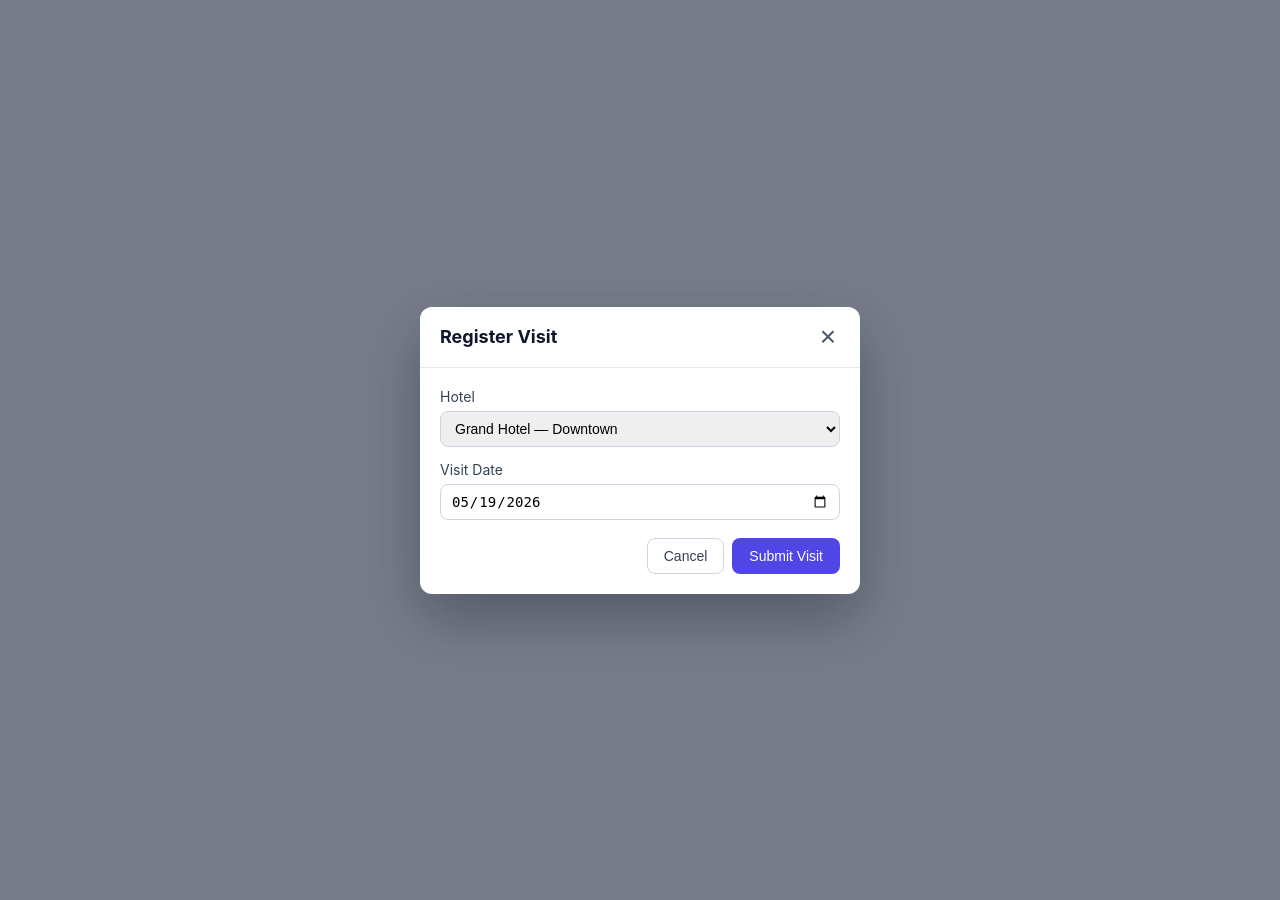
Test: VisitModal › renders field-level errors from ProblemDetails next to the field
Click the button "Submit Visit" at [786, 556], box [732, 538, 840, 574]
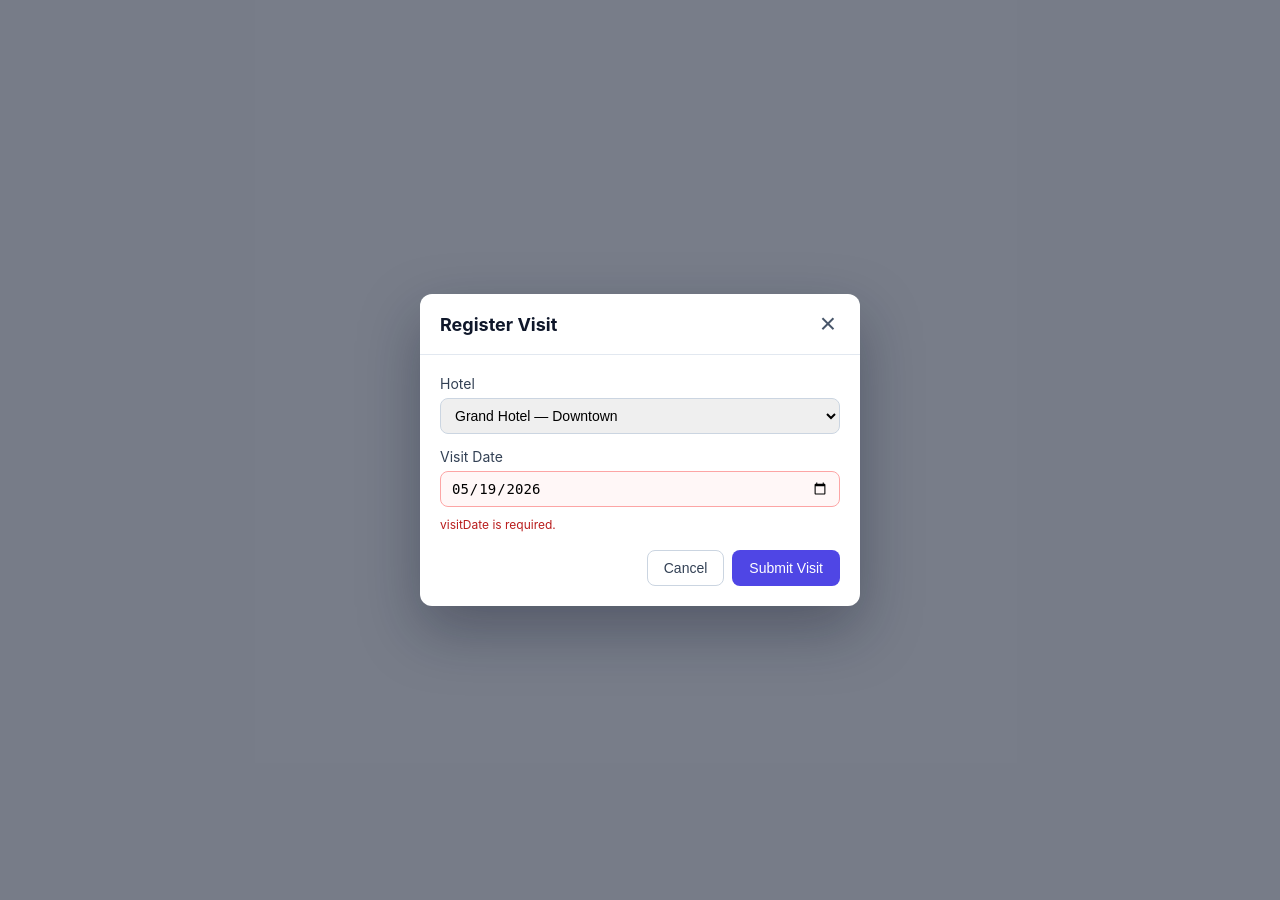
Result: the message reads "visitDate is required." at [440, 517, 556, 532]
